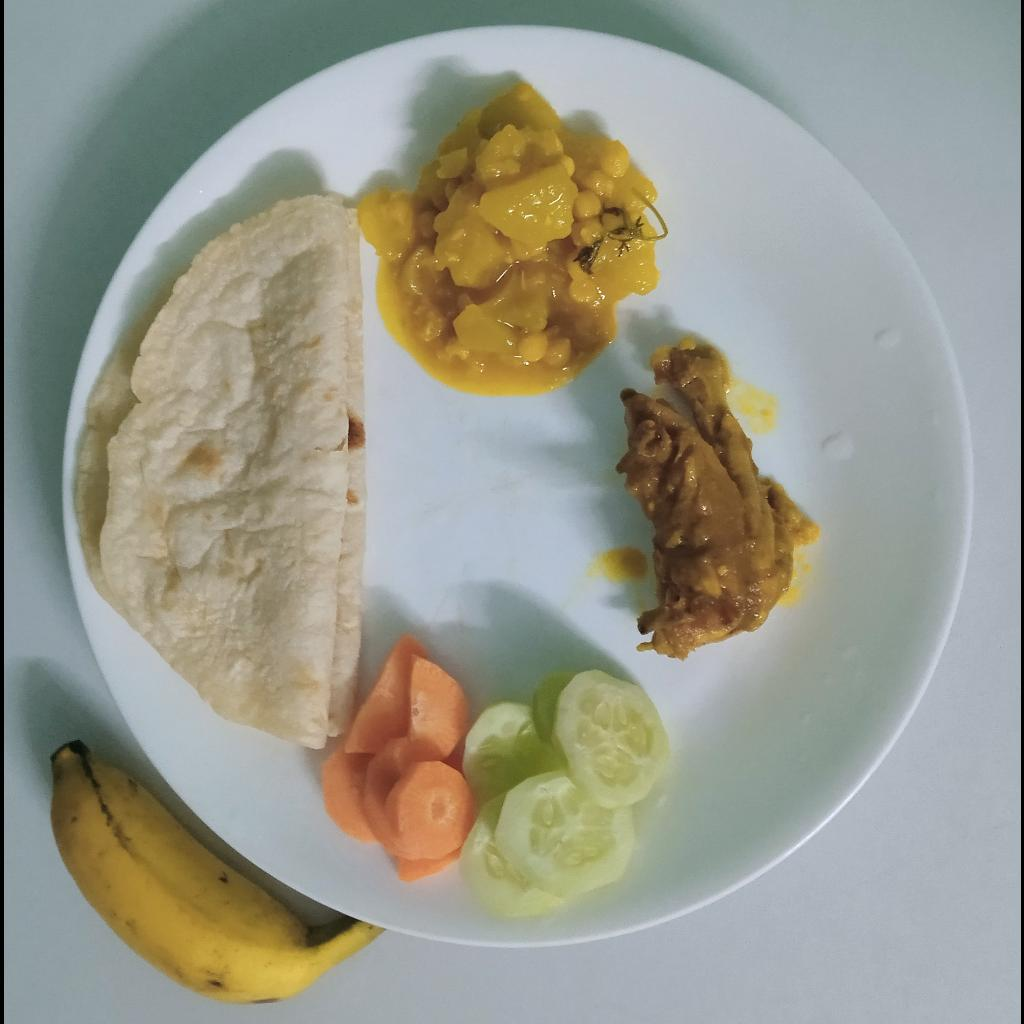banana: (49, 739, 381, 1007)
carrot: (320, 632, 476, 883)
chicken: (614, 336, 818, 662)
cucumber: (460, 668, 670, 917)
lau: (357, 79, 662, 396)
ruti: (73, 191, 365, 753)
